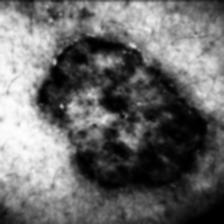Potentially Malignant Skin Tumors: (36, 37, 203, 187)
